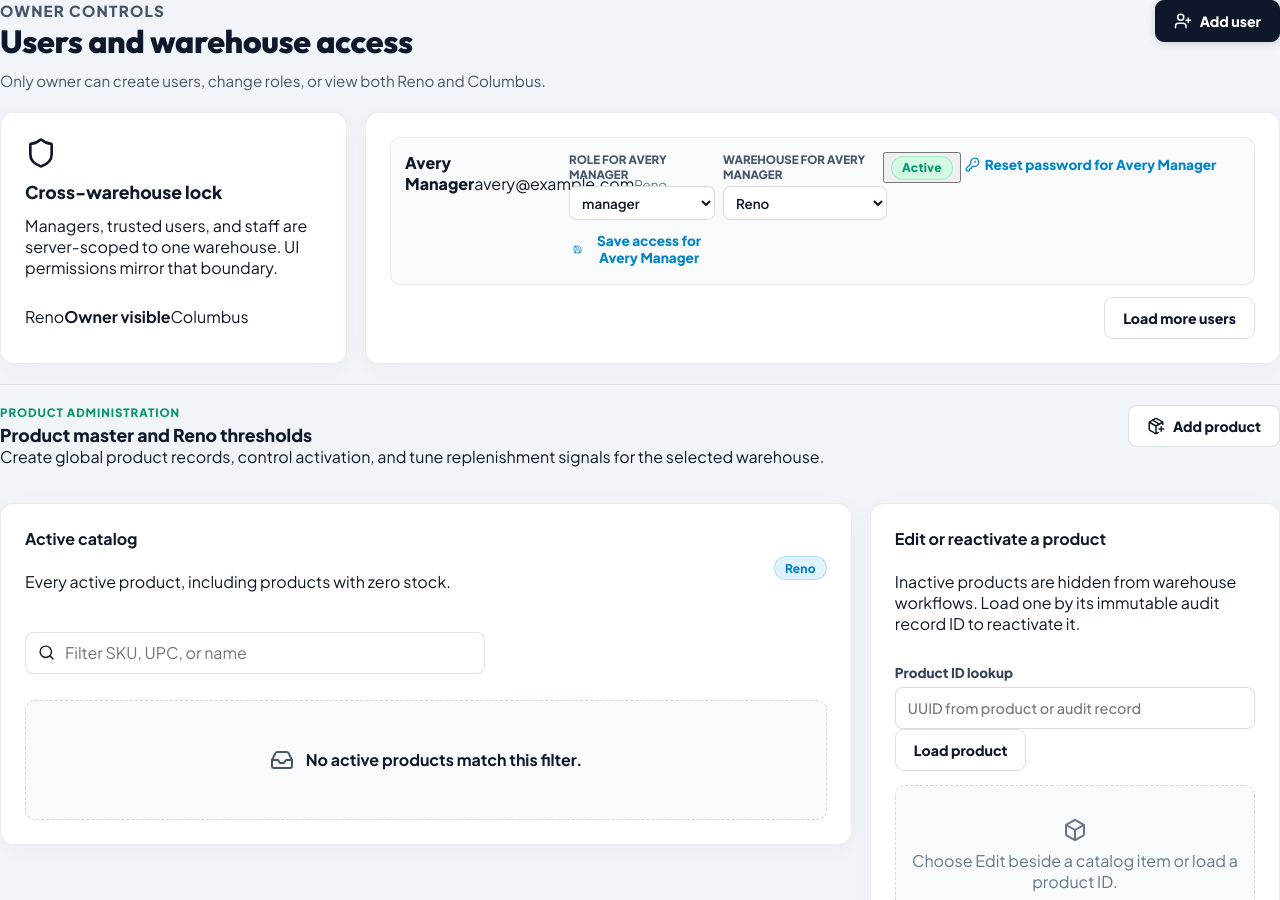
Test: OwnerPage user access › loads older users from the next cursor page
The image size is (1280, 900).
Expected: the text "Avery Manager" is shown, [405,152,474,194]
What coordinates should you click on to do the following:
click the button "Load more users"
I would click on:
 (1180, 318)
Its box is [1104,297,1255,339].
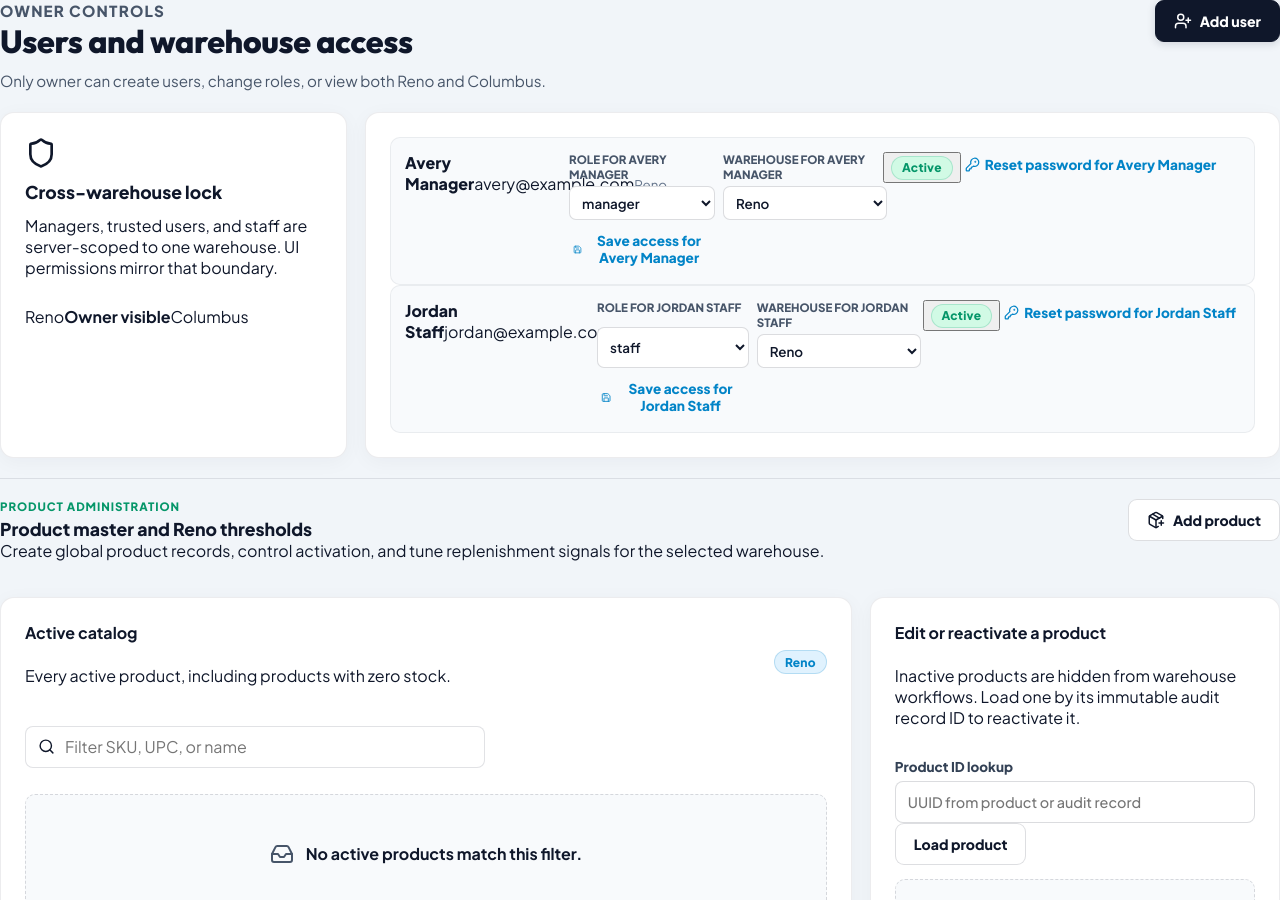
Expected: the text "Avery Manager" is shown, [405,152,474,194]
Now the text "Jordan Staff" is shown, box [405,300,458,342]
